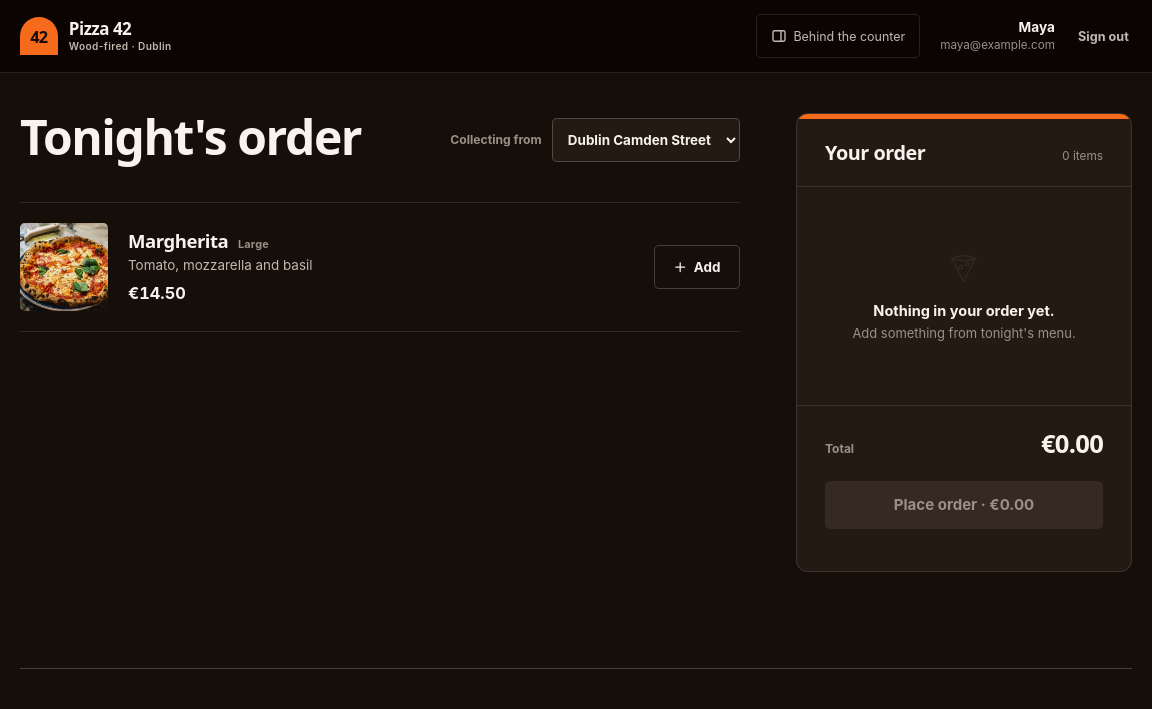
Test: Pizza 42 ordering experience › submits only SKU and quantity, then confirms the authoritative order
Click the button with aria-label "Add Margherita". click: (697,267)
box: 654,245 -> 740,289
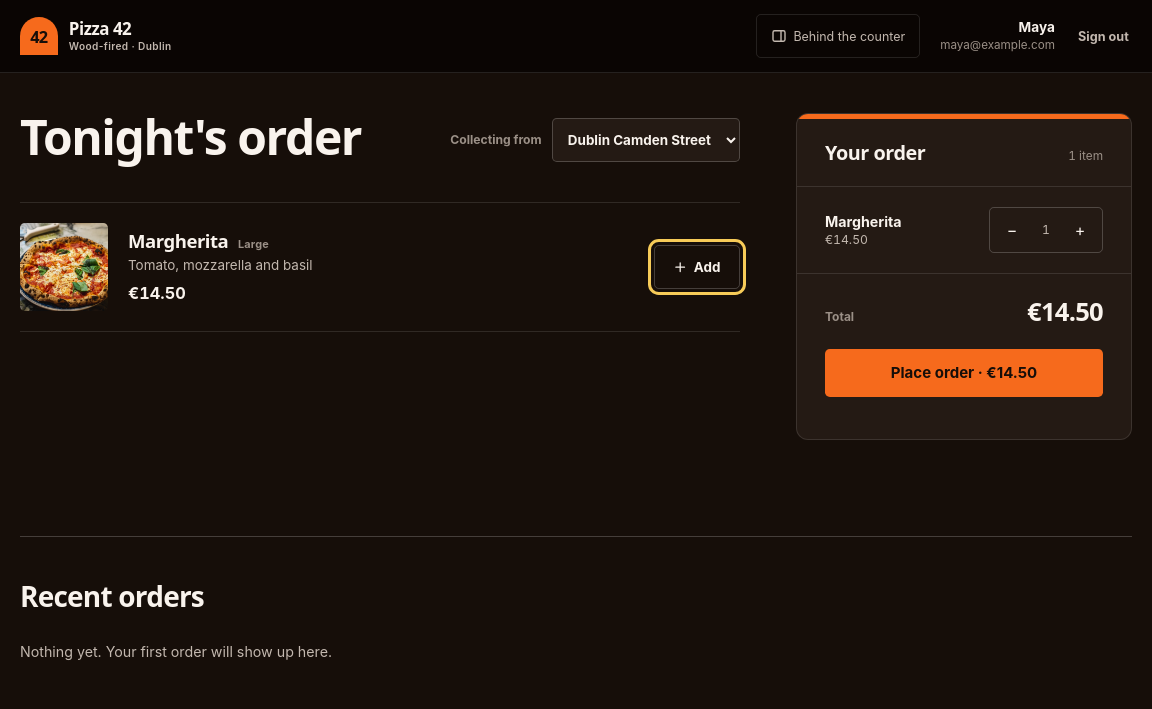
Click the button "Place order · €14.50". click: (964,373)
box: 825,349 -> 1103,397
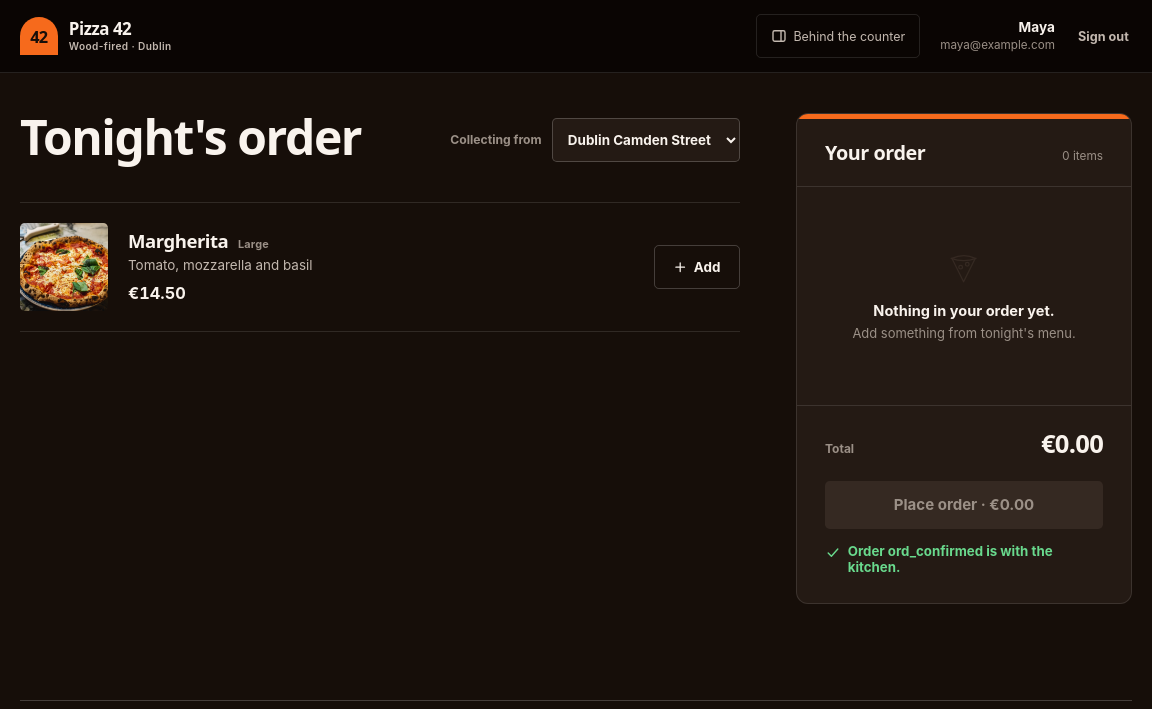
Now the text "Order ord_confirmed is with the kitchen." is shown, box 825,543 -> 1052,575
Now the text "0 items" is shown, box 1062,149 -> 1103,163
